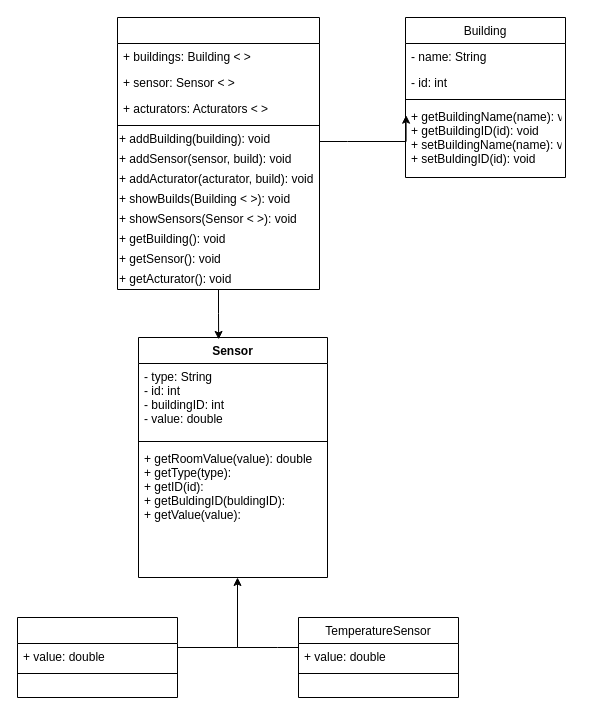
The diagram is 596 pixels wide and 715 high, and some of its shapes have lost their labels. Here are the shapes that lost their labels. From the top down, the box of each, then its label:
(116, 16, 320, 290): AdminPanel
(16, 616, 178, 698): CO2Sensor
